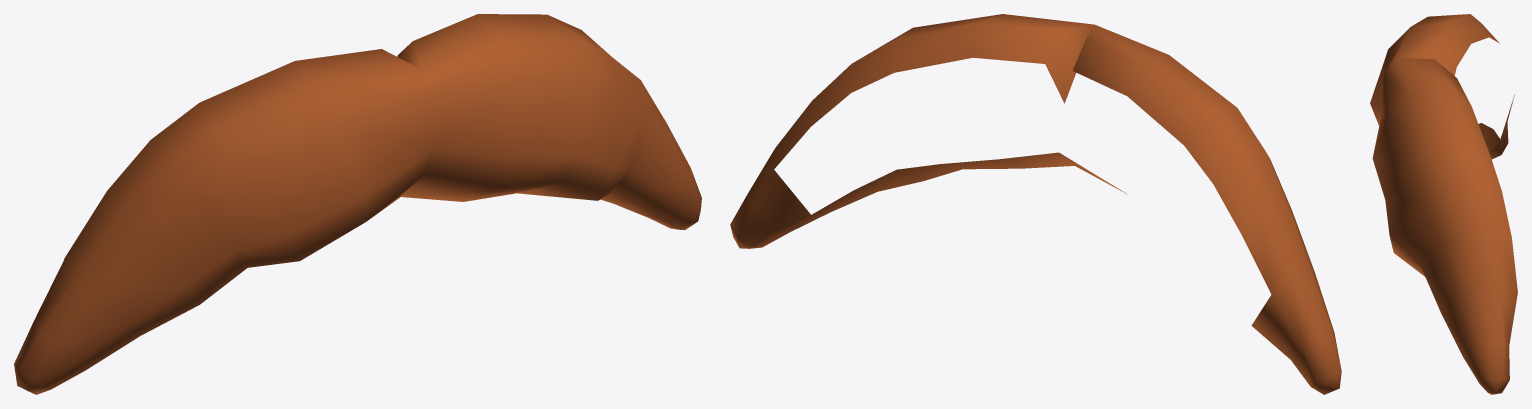
The picture shows the model from 3 angles, left to right: view 1: azimuth 30°, elevation 25°; view 2: azimuth 150°, elevation 25°; view 3: azimuth 270°, elevation 25°; orthographic projection. The views are drawn at different scales.
Parts seen in each view (by area): view 1: Wolf3D_Beard.124; view 2: Wolf3D_Beard.124; view 3: Wolf3D_Beard.124.
Boxes of the visible parts, <box> form: Wolf3D_Beard.124: <box>14,14,701,394</box>; Wolf3D_Beard.124: <box>730,14,1341,394</box>; Wolf3D_Beard.124: <box>1370,14,1517,394</box>.
Bounding box in the file's own units: 0.0957 × 0.0399 × 0.0237.
1 material, 1 textured.
